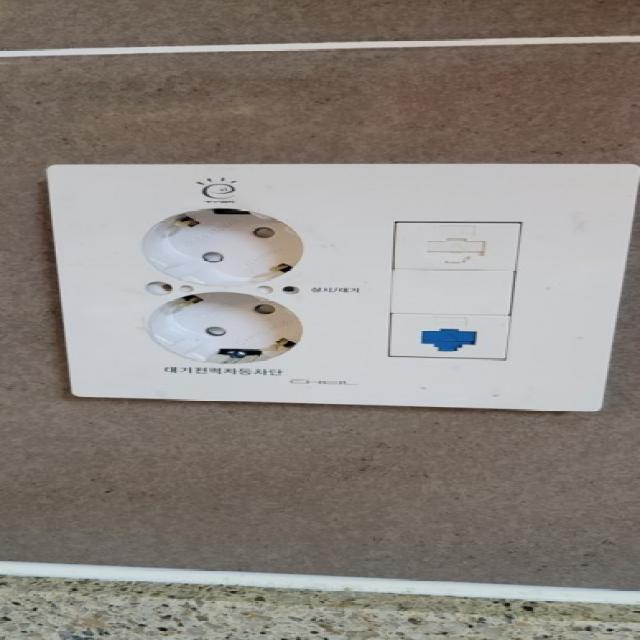typeb: (63, 159, 640, 479)
